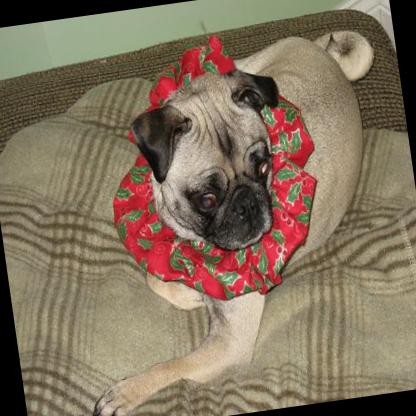pug: (39, 12, 416, 416)
